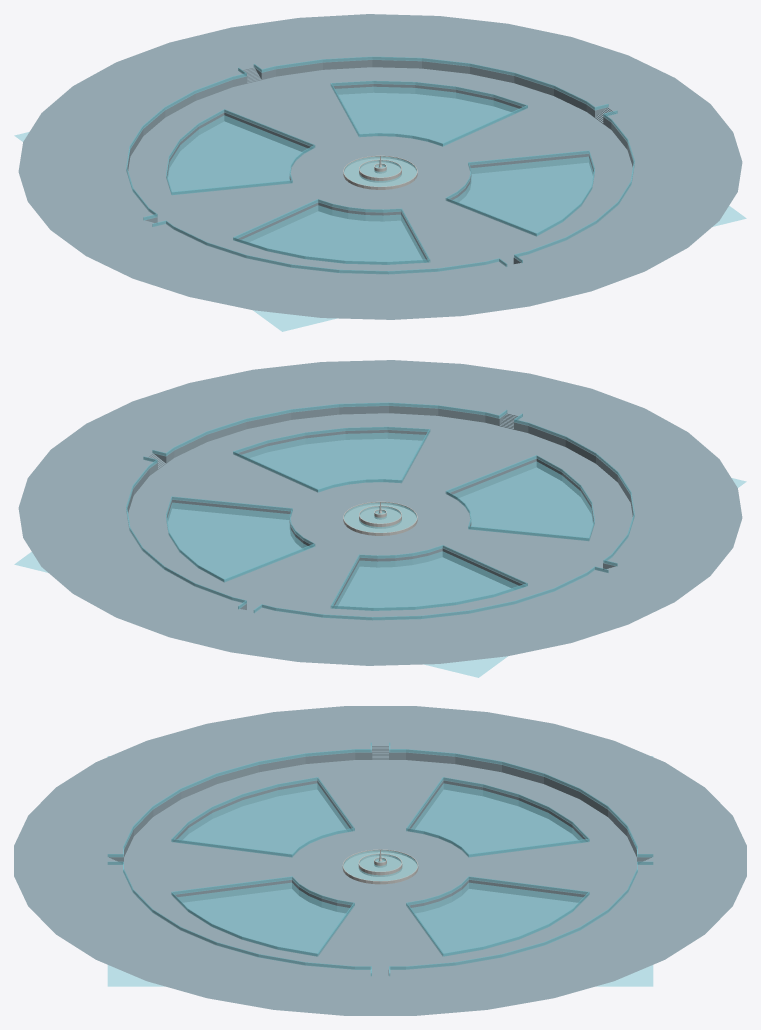
File: Town_New_Center.fbx
3 renders of one model, top to bottom at view 1: azimuth 30°, elevation 25°; view 2: azimuth 150°, elevation 25°; view 3: azimuth 270°, elevation 25°, orthographic.
Parts seen in each view (by area): view 1: Town_New_Center_Fountain, Town_New_Center_Water, Town_New_Center_Railing_2, Town_New_Center_Railing_1, Town_New_Fountain; view 2: Town_New_Center_Fountain, Town_New_Center_Water, Town_New_Center_Railing_2, Town_New_Center_Railing_1, Town_New_Fountain; view 3: Town_New_Center_Fountain, Town_New_Center_Water, Town_New_Center_Railing_2, Town_New_Center_Railing_1, Town_New_Fountain.
Part boxes in pixels (x1=…): Town_New_Center_Fountain: x1=18, y1=14, x2=742, y2=319; Town_New_Center_Water: x1=14, y1=86, x2=746, y2=331; Town_New_Center_Railing_2: x1=166, y1=80, x2=594, y2=264; Town_New_Center_Railing_1: x1=126, y1=56, x2=634, y2=274; Town_New_Fountain: x1=343, y1=155, x2=417, y2=189; Town_New_Center_Fountain: x1=18, y1=360, x2=742, y2=665; Town_New_Center_Water: x1=14, y1=432, x2=746, y2=677; Town_New_Center_Railing_2: x1=166, y1=426, x2=594, y2=610; Town_New_Center_Railing_1: x1=126, y1=402, x2=634, y2=620; Town_New_Fountain: x1=343, y1=501, x2=417, y2=535; Town_New_Center_Fountain: x1=14, y1=706, x2=746, y2=1015; Town_New_Center_Water: x1=107, y1=756, x2=653, y2=986; Town_New_Center_Railing_2: x1=171, y1=777, x2=589, y2=956; Town_New_Center_Railing_1: x1=107, y1=742, x2=653, y2=976; Town_New_Fountain: x1=342, y1=849, x2=418, y2=884.
Size of the model in its own units: 16123 by 676 by 16123.
